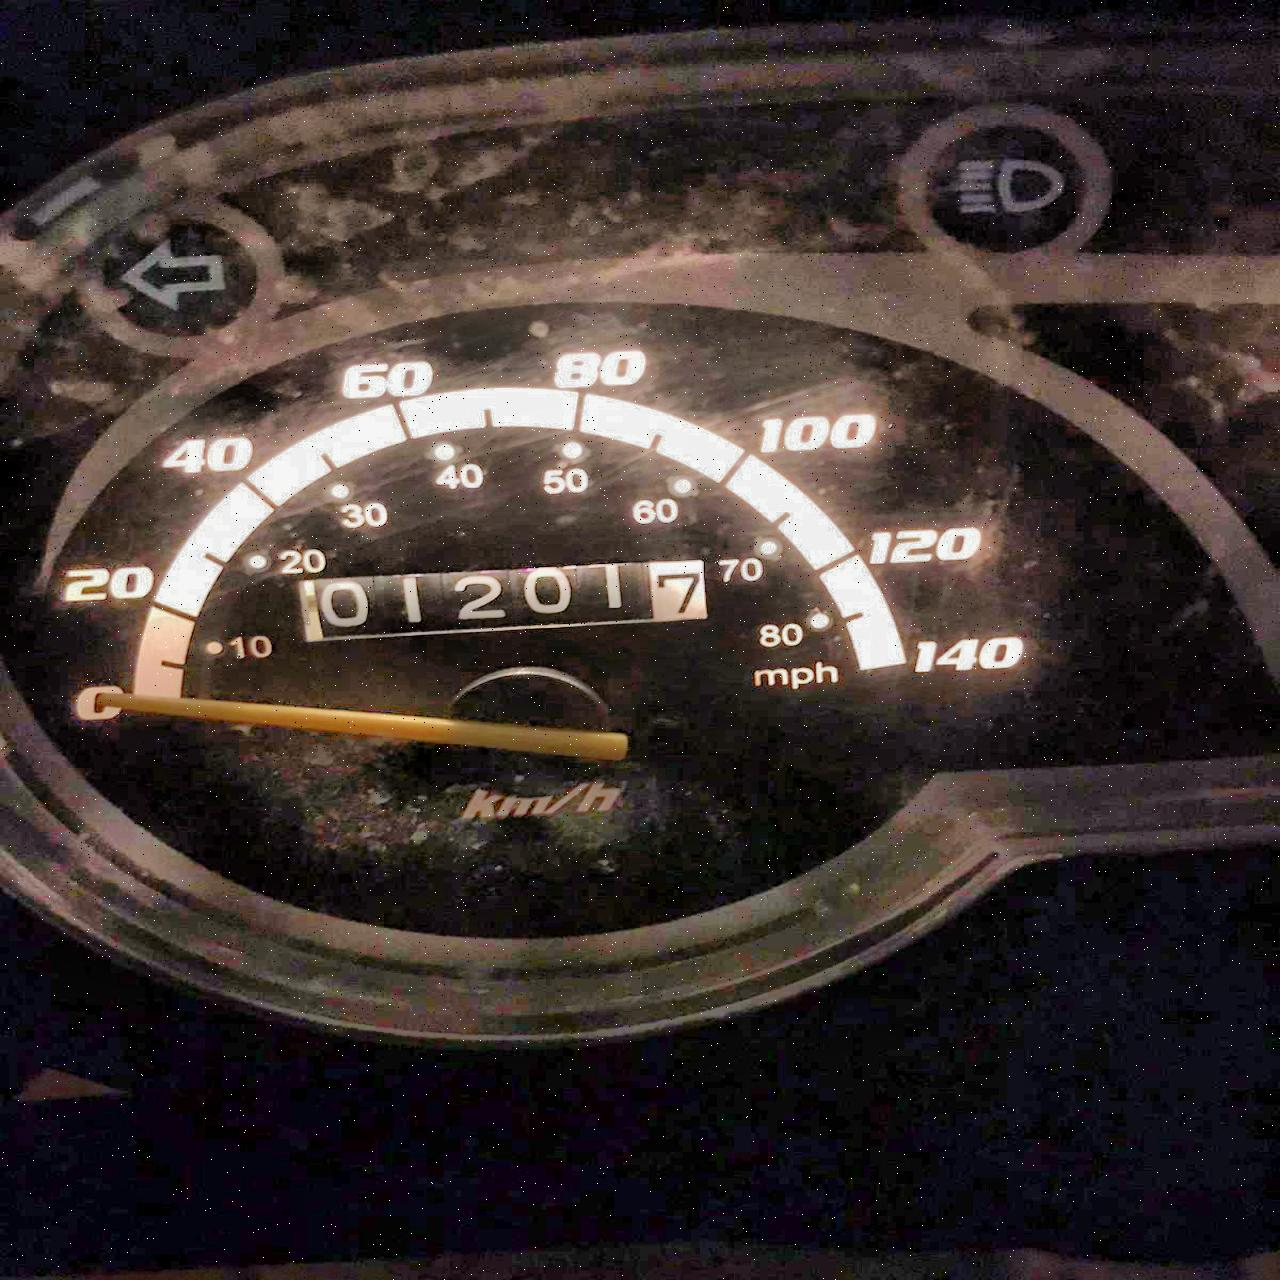0: (518, 563, 577, 620), (315, 579, 372, 632), (301, 549, 326, 573)
1: (395, 571, 433, 632), (600, 558, 626, 620)
2: (448, 573, 508, 624)
7: (651, 566, 707, 620)
odometer: (300, 551, 722, 658)
